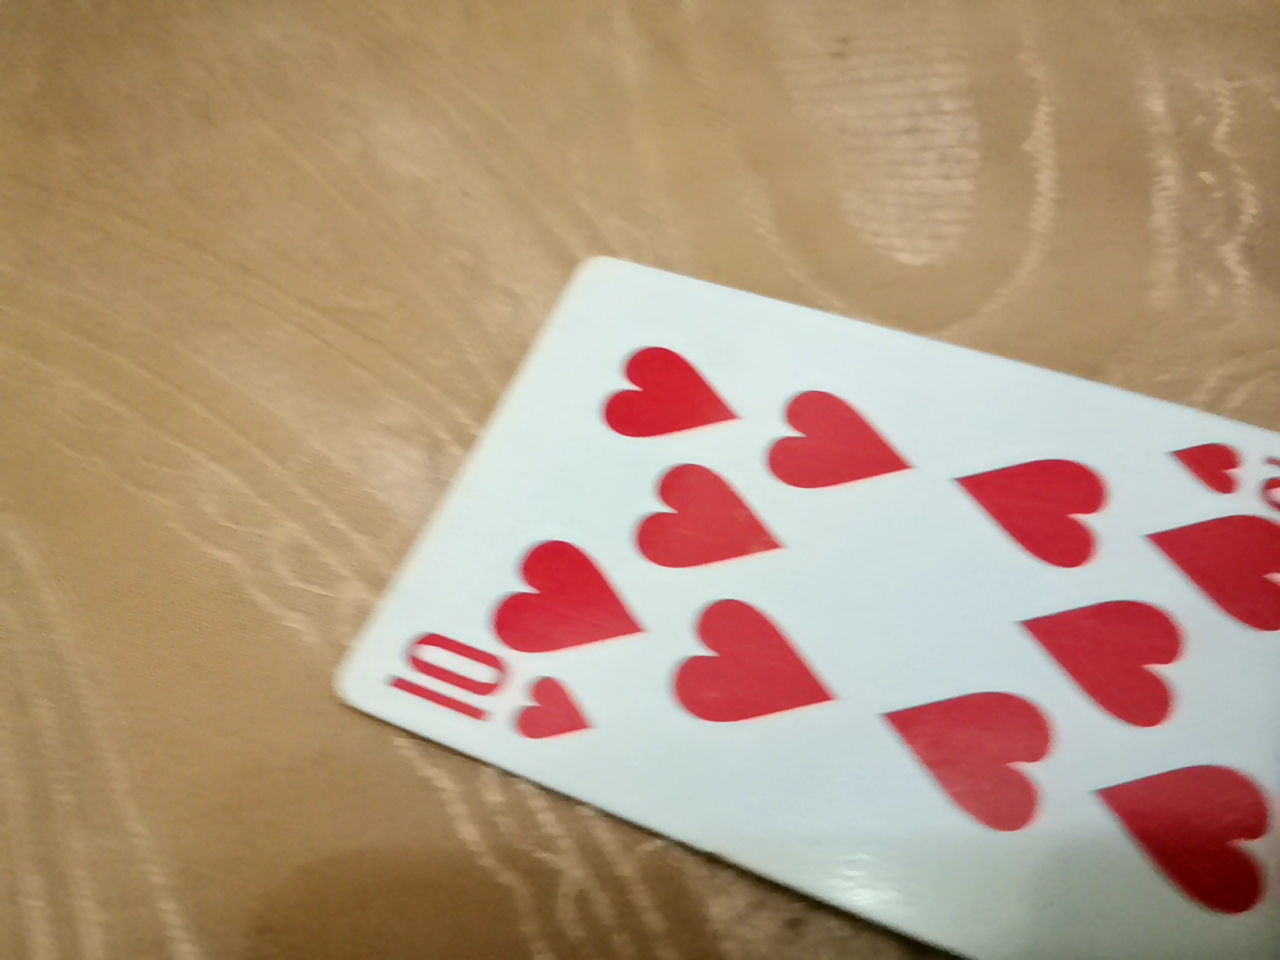hx 10: (490, 236, 1280, 944)
